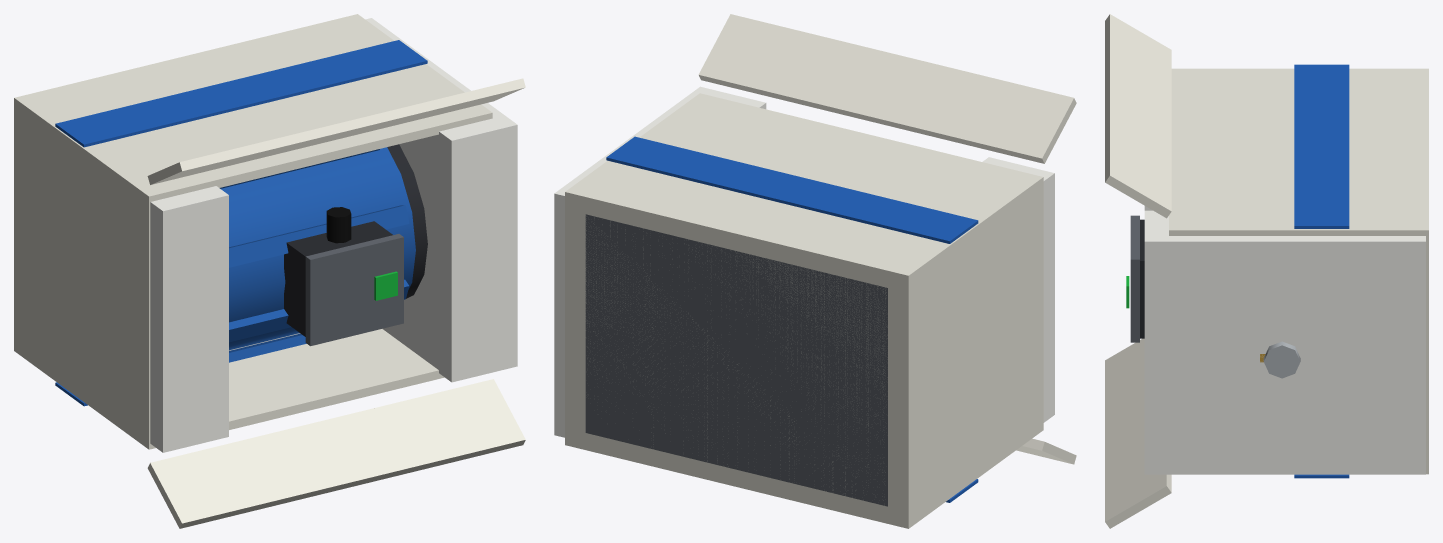
Rendered from item_p2.obj.
3 renders of one model, left to right at view 1: azimuth 30°, elevation 25°; view 2: azimuth 150°, elevation 25°; view 3: azimuth 270°, elevation 25°, orthographic. The views are drawn at different scales.
Parts seen in each view (by area): view 1: item_p2; view 2: item_p2; view 3: item_p2.
Part boxes in pixels (box(x1,y1,x2,y2)): item_p2: box(14, 14, 525, 528); item_p2: box(554, 14, 1076, 528); item_p2: box(1105, 14, 1428, 528).
Size of the model in its own units: 0.1325 by 0.1275 by 0.1059.
Materials: 1 (1 with a texture image).
